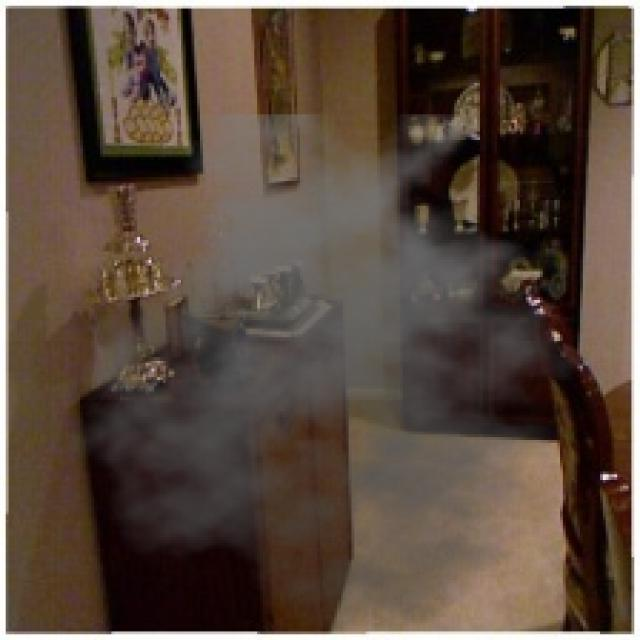smoke: (60, 115, 617, 634)
